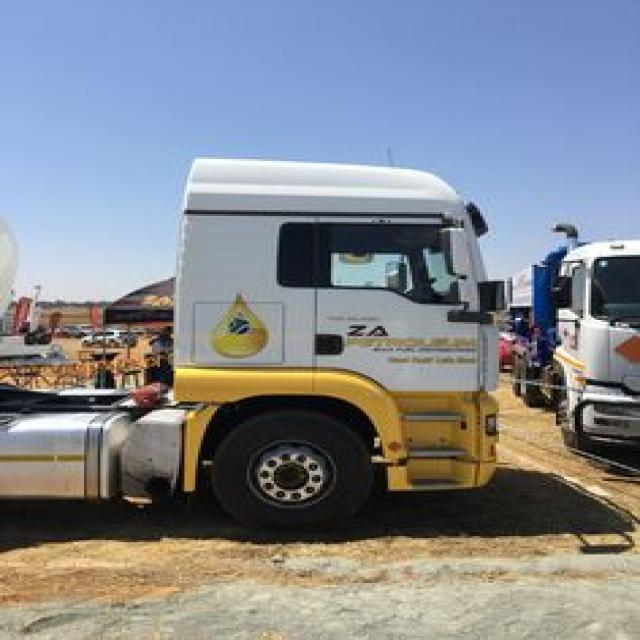Heavy Duty Truck: (2, 147, 502, 534), (512, 216, 640, 475)
